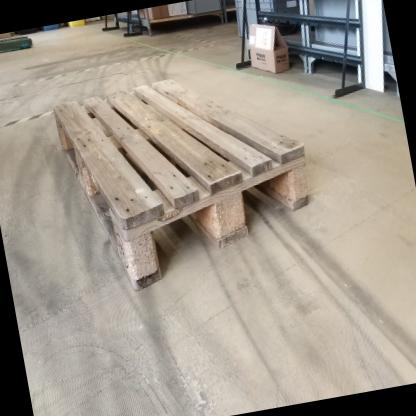BoxFace: (51, 73, 314, 298)
